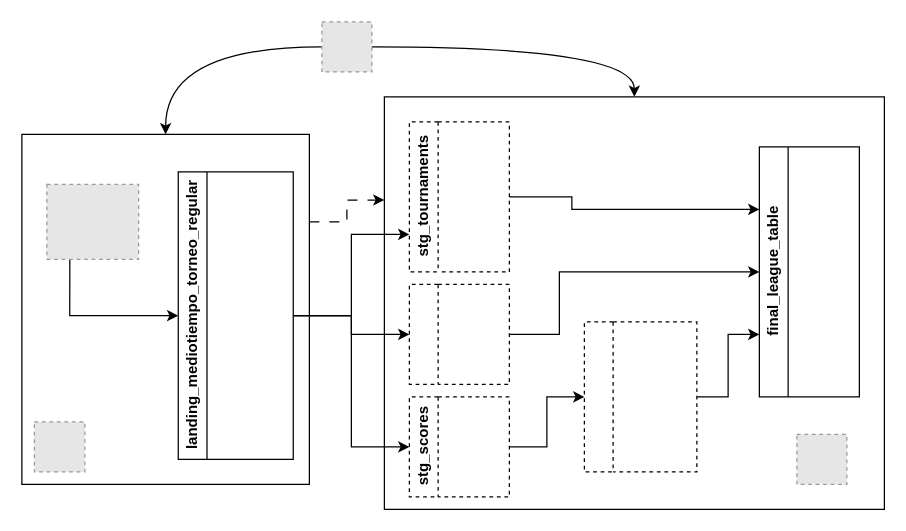
The diagram is 906 pixels wide and 531 high, and some of its shapes have lost their labels. Grey dashed boxes stand in for pictures. Each missing label, with the centre of its shape:
"int_team_points" belongs at (640,396).
"stg_teams" belongs at (458,333).
